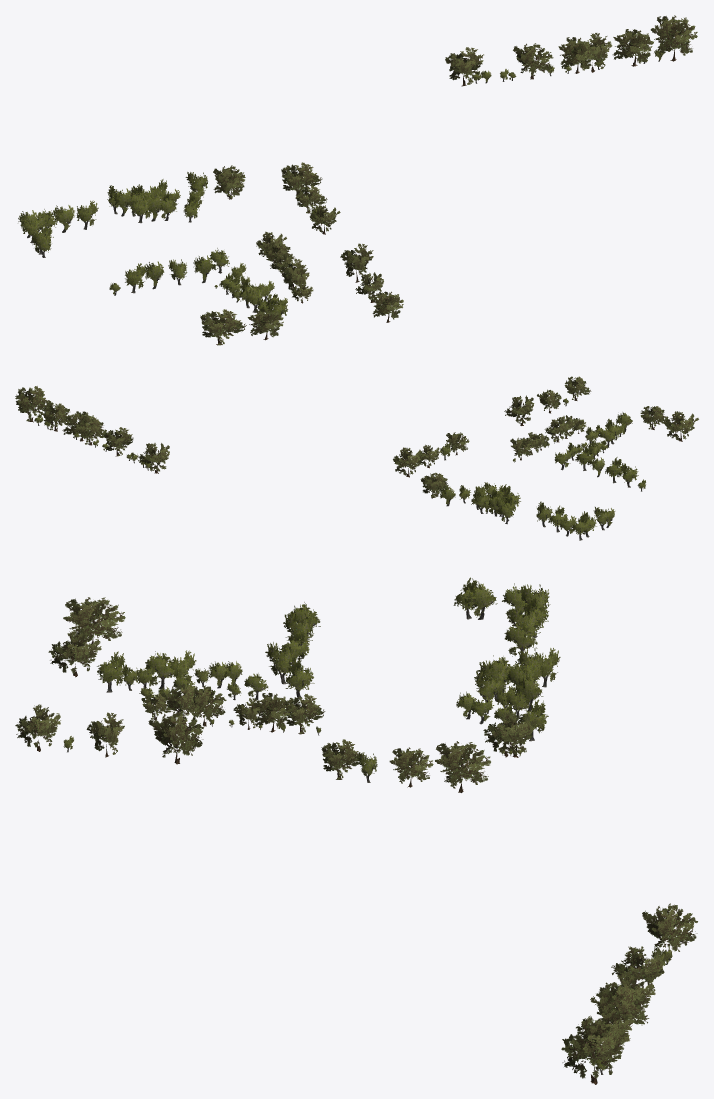
3 renders of one model, top to bottom at view 1: azimuth 30°, elevation 25°; view 2: azimuth 150°, elevation 25°; view 3: azimuth 270°, elevation 25°, orthographic. The views are drawn at different scales.
Parts seen in each view (by area): view 1: jacaranda_tree street foliage, island_tree_01 street foliage, island_tree_01 park bark; view 2: jacaranda_tree street foliage, island_tree_01 street foliage, island_tree_01 park bark, jacaranda_tree park bark; view 3: jacaranda_tree street foliage, island_tree_01 street foliage, island_tree_01 park bark.
Boxes of the visible parts, x1,y1,x2,y2 form: jacaranda_tree street foliage: [200, 15, 697, 345]; island_tree_01 street foliage: [18, 49, 663, 318]; island_tree_01 park bark: [27, 55, 661, 318]; jacaranda_tree street foliage: [15, 376, 698, 497]; island_tree_01 street foliage: [34, 398, 645, 534]; island_tree_01 park bark: [38, 403, 642, 540]; jacaranda_tree park bark: [28, 392, 682, 498]; jacaranda_tree street foliage: [15, 597, 697, 1078]; island_tree_01 street foliage: [63, 577, 672, 1070]; island_tree_01 park bark: [67, 596, 671, 1074].
Bounding box in the file's own units: 281 × 16.93 × 167.
Materials: 4 (4 with a texture image).
